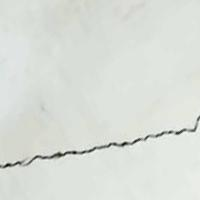crack: (1, 114, 199, 191)
